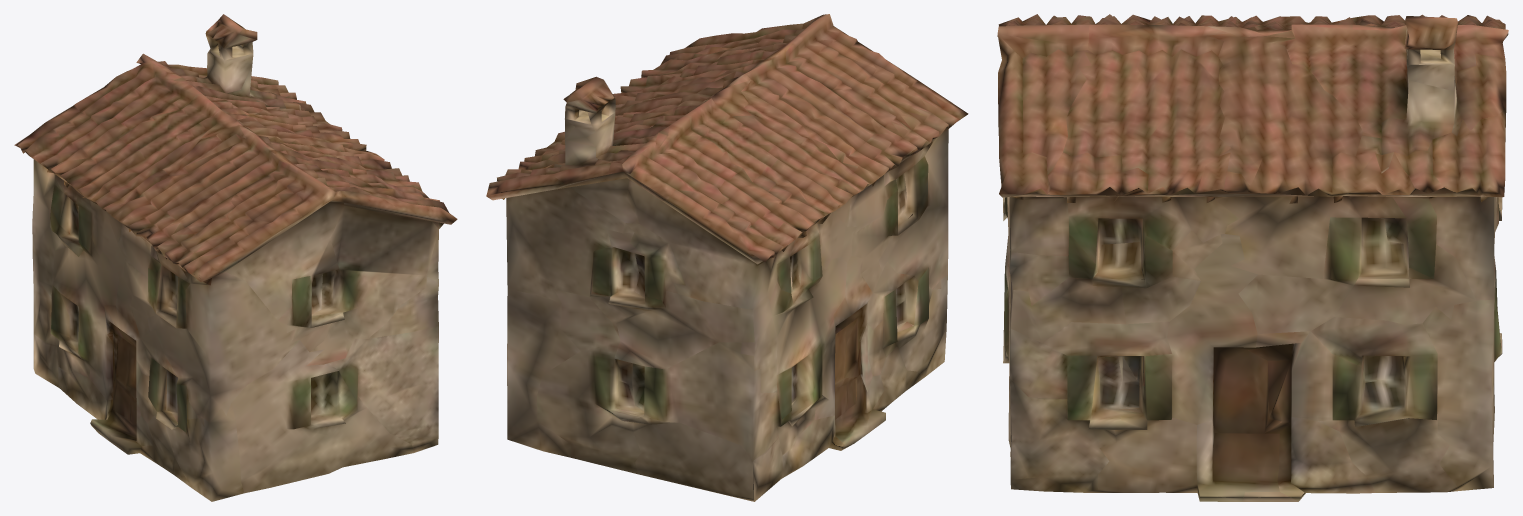
File: house-farm-lod.glb
3 renders of one model, left to right at view 1: azimuth 30°, elevation 25°; view 2: azimuth 150°, elevation 25°; view 3: azimuth 270°, elevation 25°, orthographic. The views are drawn at different scales.
Visible parts, largest first — view 1: tripo_node_de63b30f-d2f0-4bbb-9509-404eadc41191; view 2: tripo_node_de63b30f-d2f0-4bbb-9509-404eadc41191; view 3: tripo_node_de63b30f-d2f0-4bbb-9509-404eadc41191.
Part boxes in pixels (x1,y1,x2,y2): tripo_node_de63b30f-d2f0-4bbb-9509-404eadc41191: [14, 14, 457, 501]; tripo_node_de63b30f-d2f0-4bbb-9509-404eadc41191: [486, 14, 968, 501]; tripo_node_de63b30f-d2f0-4bbb-9509-404eadc41191: [997, 14, 1508, 501].
Size of the model in its own units: 0.7988 by 0.9506 by 0.9973.
Materials: 1 (1 with a texture image).
